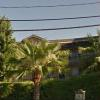Palm tree: (11, 38, 56, 100)
